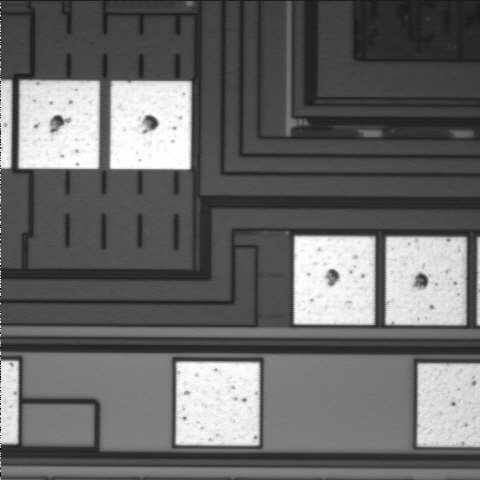pad: (19, 80, 100, 169), (294, 236, 375, 325), (110, 81, 191, 169), (386, 237, 466, 325), (176, 362, 260, 445)
